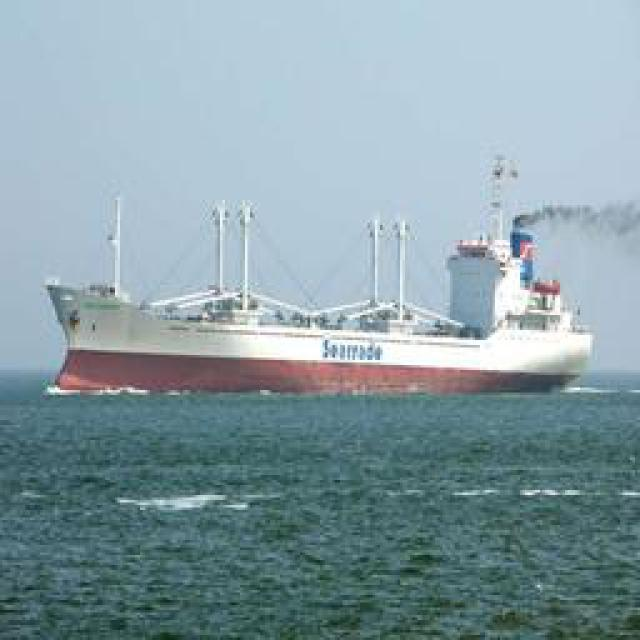Ship: (30, 200, 595, 403)
